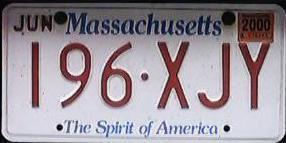placa de veiculo: (8, 8, 281, 142)
